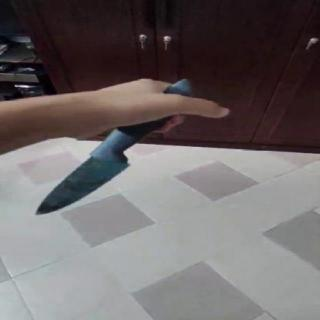knife: (13, 145, 158, 227)
